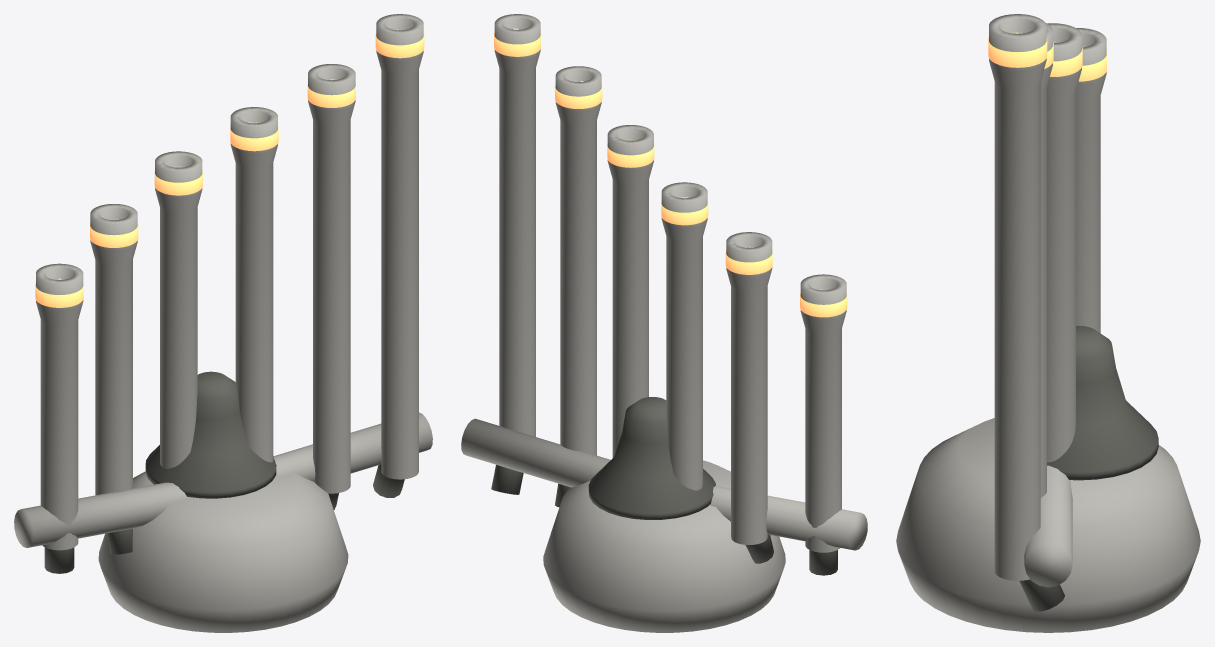
Rendered from structure-instrument.glb.
The picture shows the model from 3 angles, left to right: view 1: azimuth 30°, elevation 25°; view 2: azimuth 150°, elevation 25°; view 3: azimuth 270°, elevation 25°; orthographic projection. The views are drawn at different scales.
Visible parts, largest first — view 1: awake; view 2: awake; view 3: awake.
Part boxes in pixels (x1,y1,x2,y2): awake: [14, 14, 432, 632]; awake: [461, 14, 867, 632]; awake: [896, 14, 1200, 632].
Size of the model in its own units: 2.81 by 3.55 by 1.52.
